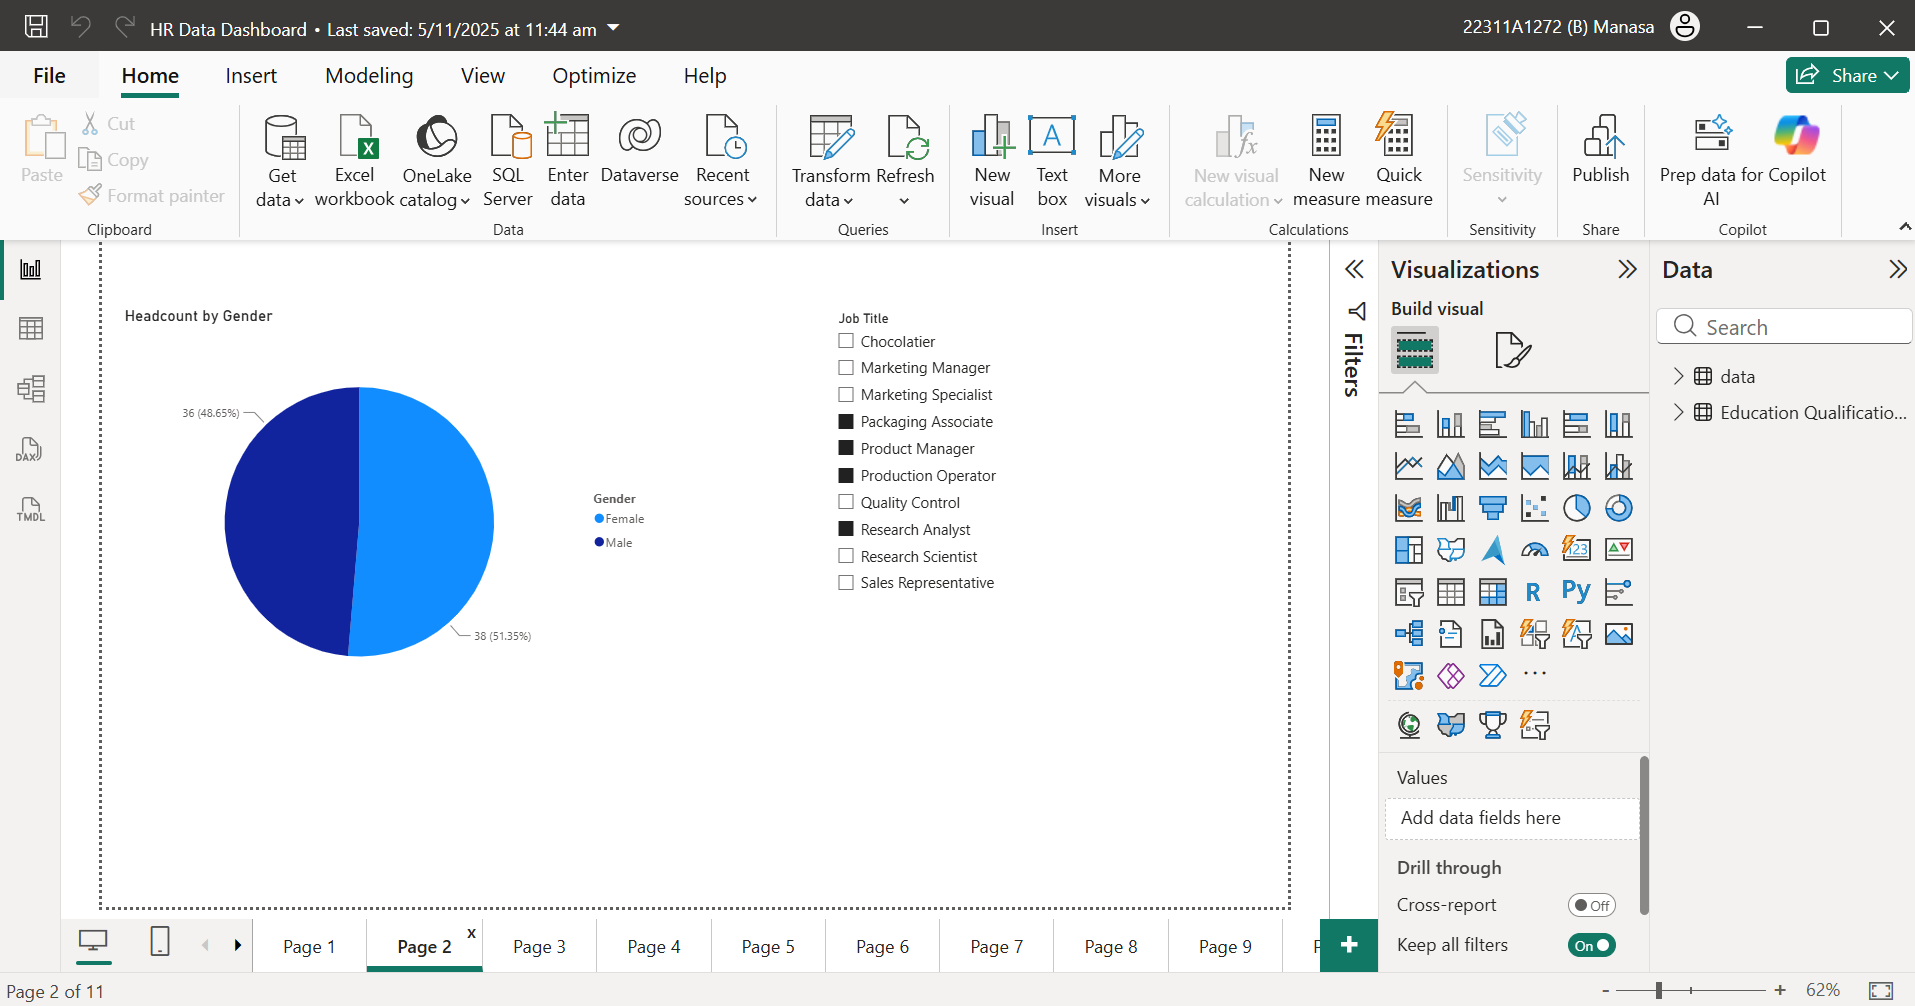

What the dashboard file says about the page in this screenshot:
{"tool":"powerbi","page":{"name":"Page 2","canvas":[1280,720],"ordinal":1},"visuals":[{"type":"pieChart","fields":{"Category":["data.Gender"],"Y":["data.Headcount"]},"box":[18.9,71.8,582.1,446],"z":0},{"type":"slicer","fields":{"Values":["data.Job Title"]},"box":[782.4,71.8,436.5,423.3],"z":1000}]}

Visuals, with their boxes on the page's 1280x720 design canvas (x1, y1, x2, y2). These are canvas units, not pixel positions in the 1915x1006 screenshot, which may show the page scaled, cropped or inside an application window:
pieChart - data.Gender x data.Headcount: <bbox>19, 72, 601, 518</bbox>
slicer - data.Job Title: <bbox>782, 72, 1219, 495</bbox>
